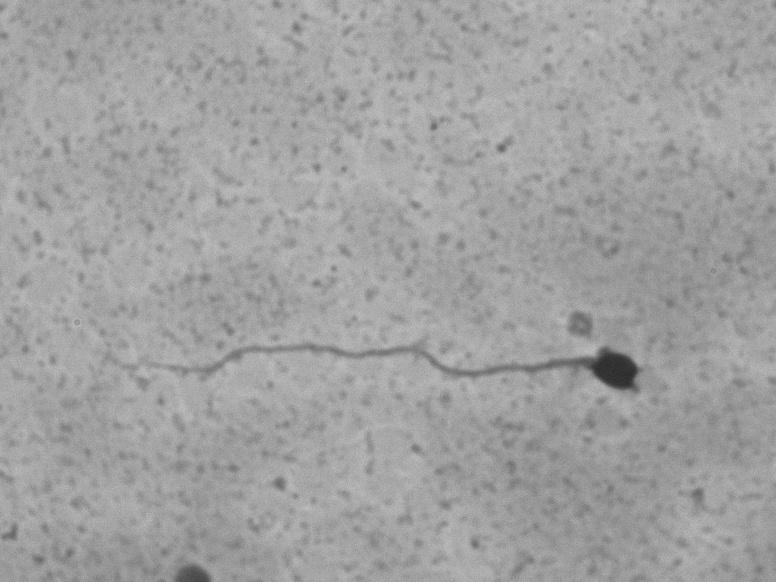Abnormal: (140, 271, 680, 457)
